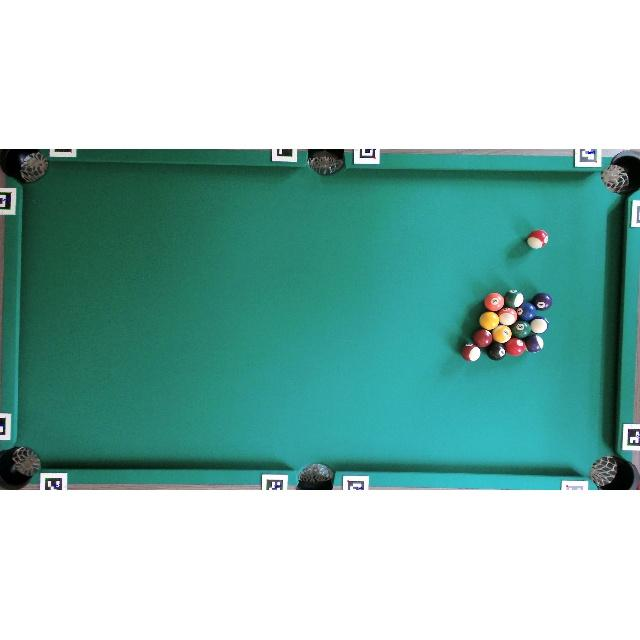other: (527, 229, 549, 249), (484, 292, 504, 312), (504, 289, 524, 309), (505, 337, 526, 356), (479, 312, 500, 331), (516, 302, 537, 321), (531, 292, 553, 310), (511, 320, 531, 339), (473, 329, 493, 348), (524, 333, 544, 352), (498, 307, 518, 326), (530, 315, 549, 334), (492, 326, 512, 344), (461, 344, 481, 362), (487, 342, 506, 360)
